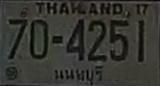0: (29, 19, 48, 58)
1: (137, 20, 143, 61)
2: (88, 19, 106, 61)
4: (65, 18, 84, 60)
5: (109, 19, 128, 60)
7: (8, 18, 27, 58)
NBI: (50, 62, 106, 86)
